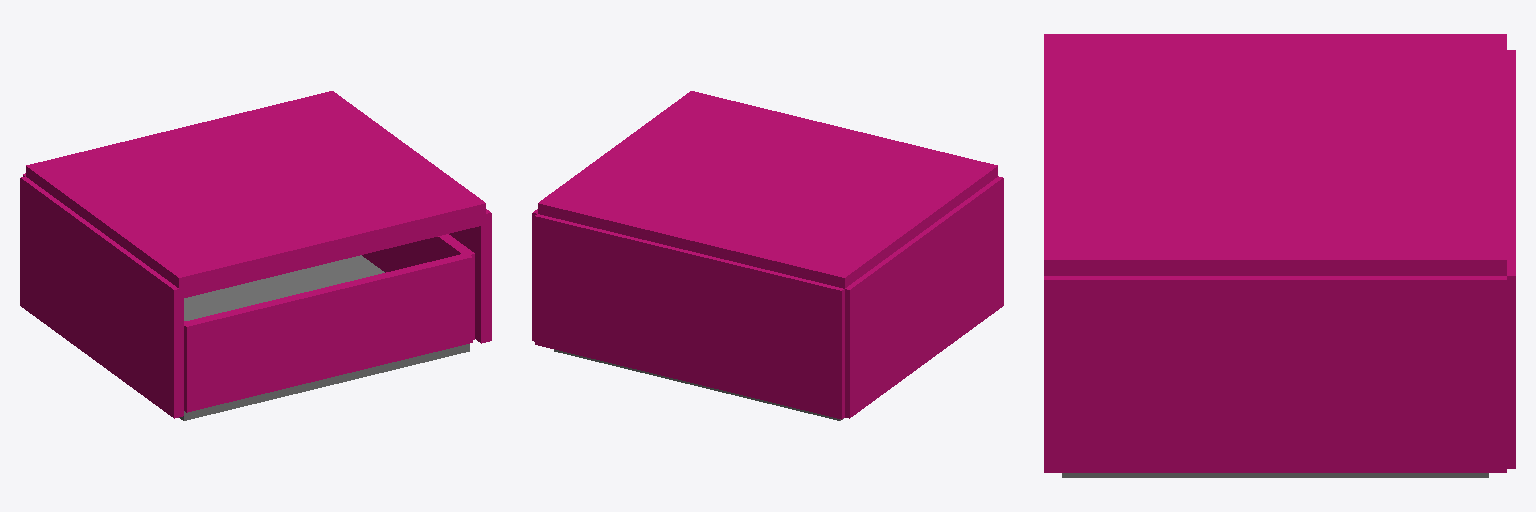
URDF robot description (bowl.urdf):
<?xml version="0.0" ?>
<robot name="bowl.urdf">
  <material name="mainColor">
    <color rgba=".8 .1 .5 1."/>
  </material>
<!--   <material name="mainColor">
    <color rgba=".55 .27 .1 1."/>
  </material> -->
<!--   <material name="mainColor">
    <color rgba="1. 1. 1. 1."/>
  </material> -->
  <material name="grey">
    <color rgba=".5 .5 .5 1."/>
  </material>


  <link name="world"/>

  <link name="base">
    <contact>
      <rolling_friction value="10.0"/>
      <lateral_friction value="10.0"/>
      <spinning_friction value="10.0"/>
    </contact>
    <inertial>
      <origin rpy="0 0 0" xyz="0.0 0.0 0.0"/>
       <mass value="0.1"/>
       <inertia ixx="1" ixy="0" ixz="0" iyy="1" iyz="0" izz="1"/>
    </inertial>
    <!-- bottom -->
    <visual>
      <origin rpy="0 0 0" xyz="0 0 -0.2"/>
      <geometry>
        <box size="1.4 1.2 .1"/>
      </geometry>
      <material name="grey"/>
    </visual>
    <visual>
      <!-- right -->
      <origin rpy="0 0 0" xyz="0 -.6 0"/>
      <geometry>
        <box size="1.4 .05 0.4"/>
      </geometry>
      <material name="mainColor"/>
    </visual>
    <visual>
      <!-- left -->
      <origin rpy="0 0 0" xyz="0 .6 0"/>
      <geometry>
        <box size="1.4 .05 0.4"/>
      </geometry>
      <material name="mainColor"/>
    </visual>
    <visual>
      <!-- front -->
      <origin rpy="0 0 0" xyz=".7 0 0"/>
      <geometry>
        <box size=".05 1.2 0.4"/>
      </geometry>
      <material name="mainColor"/>
    </visual>
    <visual>
      <!-- back -->
      <origin rpy="0 0 0" xyz="-.7 0 0"/>
      <geometry>
        <box size=".05 1.2 0.4"/>
      </geometry>
      <material name="mainColor"/>
    </visual>

    <collision>
      <!--Bottom --> 
      <origin rpy="0 0 0" xyz="0 0 -.2"/>
      <geometry>
        <box size="1.4 1.2 .1"/>
      </geometry>
    </collision>
    <collision>
      <!-- right -->
      <origin rpy="0 0 0" xyz="0 -.6 0"/>
      <geometry>
        <box size="1.4 .05 0.4"/>
      </geometry>
    </collision>
    <collision>
      <!-- left -->
      <origin rpy="0 0 0" xyz="0 .6 0"/>
      <geometry>
        <box size="1.4 .05 0.4"/>
      </geometry>
    </collision>
    <collision>
      <!-- front -->
      <origin rpy="0 0 0" xyz=".7 0 0"/>
      <geometry>
        <box size=".05 1.2 0.4"/>
      </geometry>
    </collision>
    <collision>
      <!-- back -->
      <origin rpy="0 0 0" xyz="-.7 0 0"/>
      <geometry>
        <box size=".05 1.2 0.4"/>
      </geometry>
    </collision>
  </link>

  <link name="frame">
    <contact>
      <lateral_friction value="0.5"/>
      <rolling_friction value="0.0"/>
      <contact_cfm value="0.0"/>
      <contact_erp value="1.0"/>
    </contact>
    <inertial>
      <origin rpy="0 0 0" xyz="0.0 0.0 0.0"/>
       <mass value=".1"/>
       <inertia ixx="1" ixy="0" ixz="0" iyy="1" iyz="0" izz="1"/>
    </inertial>
    <visual>
      <!--Top-->
      <origin rpy="0 0 0" xyz="0 0 .3"/>
      <geometry>
        <box size="1.5 1.3 .1"/>
      </geometry>
      <material name="mainColor"/>
    </visual>
    <visual>
      <!--Right-->
      <origin rpy="0 0 0" xyz="0 .65 0"/>
      <geometry>
        <box size="1.5 .05 .6"/>
      </geometry>
      <material name="mainColor"/>
    </visual>
    <visual>
      <!--Front-->
      <origin rpy="0 0 0" xyz=".75 0 0"/>
      <geometry>
        <box size=".05 1.3 .6"/>
      </geometry>
      <material name="mainColor"/>
    </visual>
    <visual>
      <!--Back-->
      <origin rpy="0 0 0" xyz="-.75 0 0"/>
      <geometry>
        <box size=".05 1.3 .6"/>
      </geometry>
      <material name="mainColor"/>
    </visual>

    <collision>
      <!--Top-->
      <origin rpy="0 0 0" xyz="0 0 .3"/>
      <geometry>
        <box size="1.5 1.3 .1"/>
      </geometry>
    </collision>
    <collision>
      <!--Right-->
      <origin rpy="0 0 0" xyz="0 .65 0"/>
      <geometry>
        <box size="1.5 .05 .6"/>
      </geometry>
    </collision>
    <collision>
      <!--Front-->
      <origin rpy="0 0 0" xyz=".75 0 0"/>
      <geometry>
        <box size=".05 1.3 .6"/>
      </geometry>
    </collision>
    <collision>
      <!--Back-->
      <origin rpy="0 0 0" xyz="-.75 0 0"/>
      <geometry>
        <box size=".05 1.3 .6"/>
      </geometry>
    </collision>
  </link>

  <joint name="frame_joint" type="fixed">
    <parent link="world"/>
    <child link="frame"/>
  </joint>

  <joint name="base_frame_joint" type="prismatic">
    <origin rpy="0 0 0" xyz="0 0 -.1"/>
    <parent link="frame"/>
    <child link="base"/>
    <axis rpy="0 0 0" xyz="0 1 0"/>
    <limit effort="100" lower="-1.25" upper="0" velocity="100"/>
    <dynamics damping="0.0" friction=".01"/>
  </joint>

</robot>

--- What the picture shows (computed from the rendered views, not written in the file) ---
3 views of the same robot in one strip: view 1: azimuth 30°, elevation 25°; view 2: azimuth 150°, elevation 25°; view 3: azimuth 270°, elevation 25° (orthographic).
Model bowl.urdf with 3 links and 2 joints (1 prismatic, 1 fixed), rooted at world, posed all joints at 0.
Links seen in each view (by area): view 1: frame, base; view 2: frame, base; view 3: frame, base.
Link boxes in pixels (box(x1,y1,x2,y2)): frame: box(20, 91, 491, 418); base: box(179, 234, 474, 420); frame: box(532, 91, 1003, 419); base: box(554, 349, 843, 420); frame: box(1044, 34, 1515, 472); base: box(1062, 473, 1488, 477).
Size in the robot's own frame: 1.55 by 1.32 by 0.7 metres.
Geometry: primitives only (box / cylinder / sphere), no mesh files.